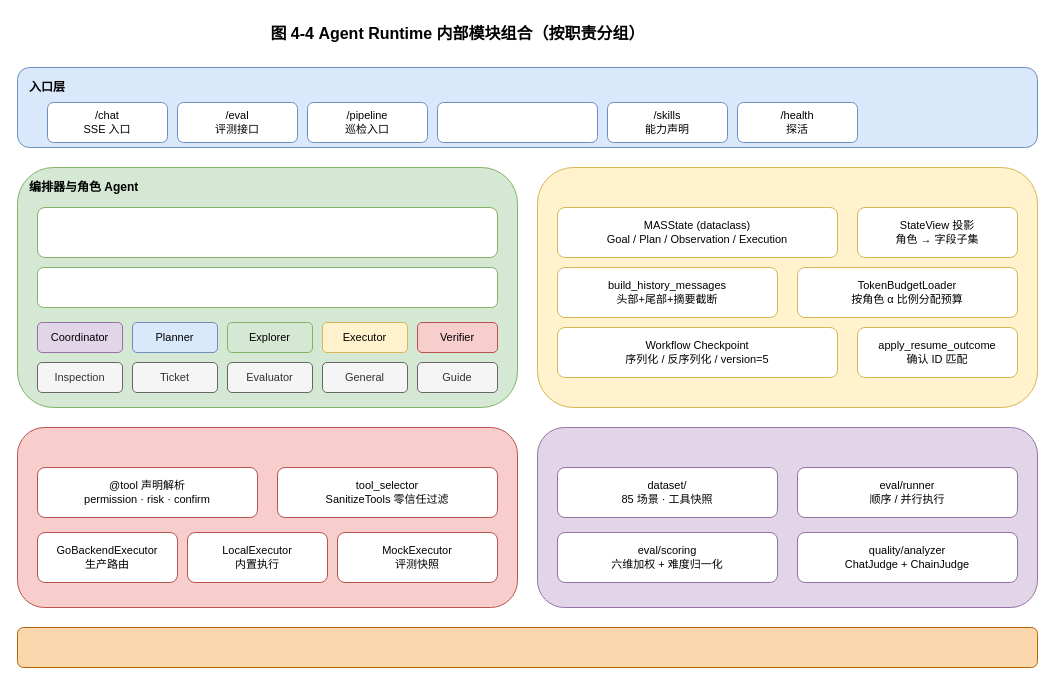
Image size: 1055x685. Some labels were removed from this diagram. Each missing label, with the box of its shape:
/quality/feedback 👍/👎 回流: (436, 102, 598, 142)
IntentRouter 两级路由（启发式+LLM）: (36, 206, 498, 258)
LLM 客户端工厂（Thinking / Flash 路由 + fallback 重试）: (16, 626, 1038, 668)
MultiAgent Orchestrator（MAS 主循环 · 状态机）: (36, 266, 498, 308)
工具与安全: (16, 426, 518, 608)
记忆 / 上下文 / 状态: (536, 166, 1038, 408)
评测与质量: (536, 426, 1038, 608)
